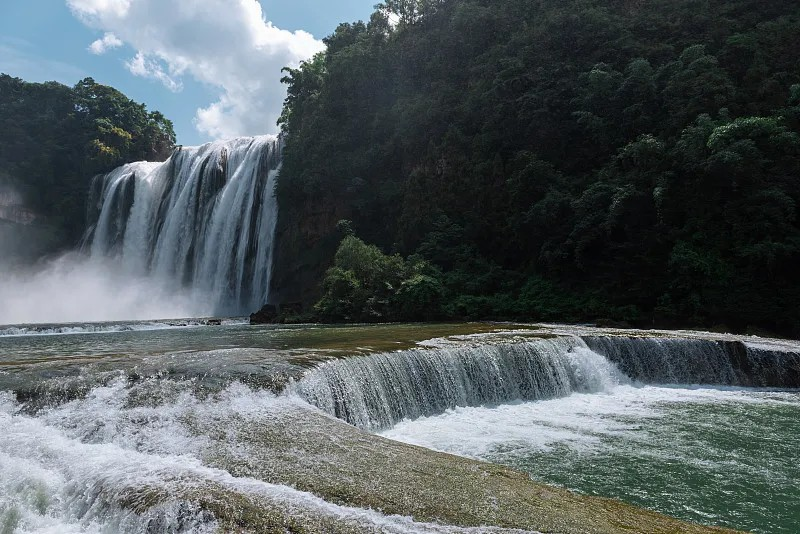Huangguoshu: (69, 135, 279, 315)
